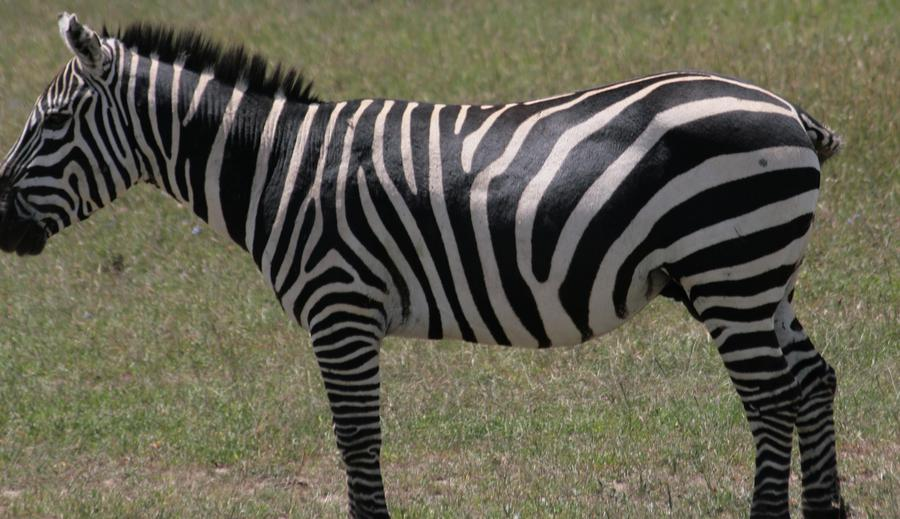zebra_plains: (260, 80, 800, 309)
